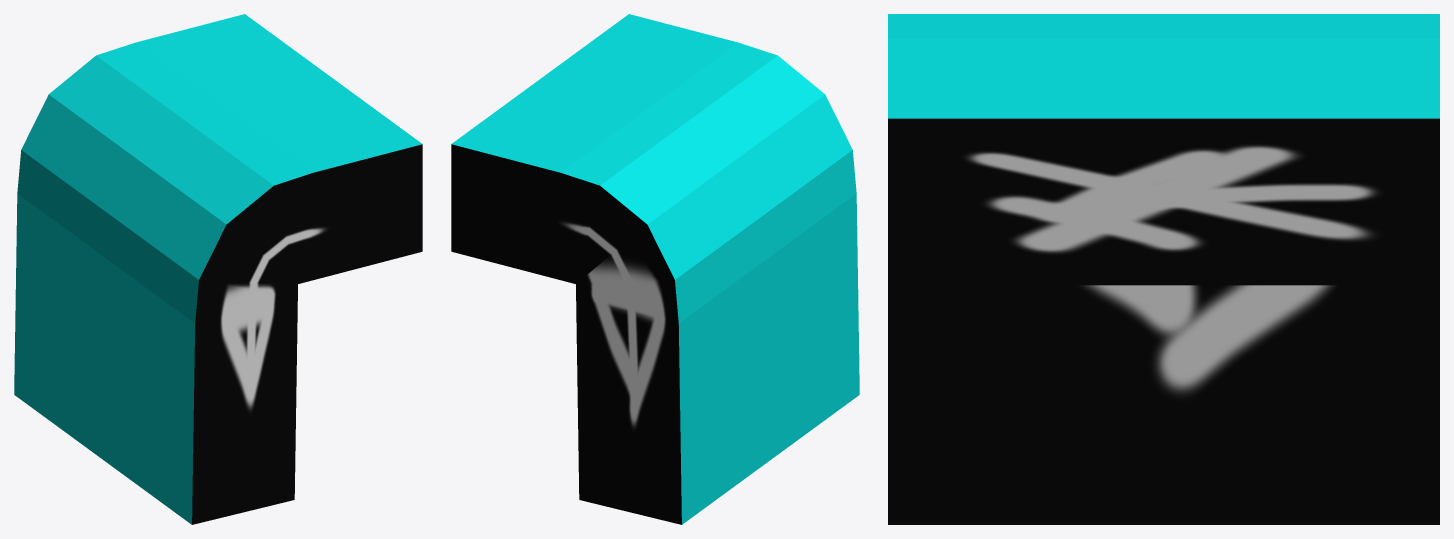
Rendered from ColorBlock.gltf.
3 renders of one model, left to right at view 1: azimuth 30°, elevation 25°; view 2: azimuth 150°, elevation 25°; view 3: azimuth 270°, elevation 25°, orthographic. The views are drawn at different scales.
Visible parts, largest first — view 1: Cube; view 2: Cube; view 3: Cube.
Part boxes in pixels (x1,y1,x2,y2): Cube: (14,14,422,524); Cube: (451,14,859,524); Cube: (888,14,1439,524).
Size of the model in its own units: 4.49 by 6.04 by 6.
2 materials, 1 textured.
